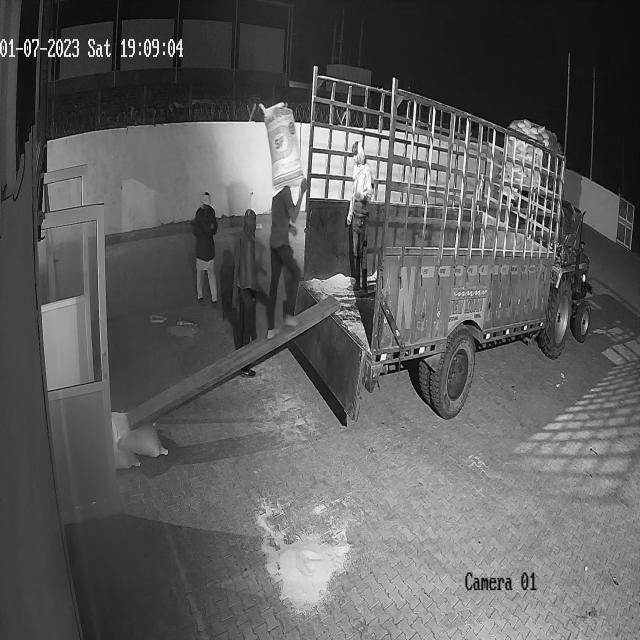sack: (260, 101, 304, 188), (112, 411, 168, 456)
